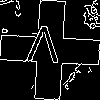V: (25, 25, 61, 73)
